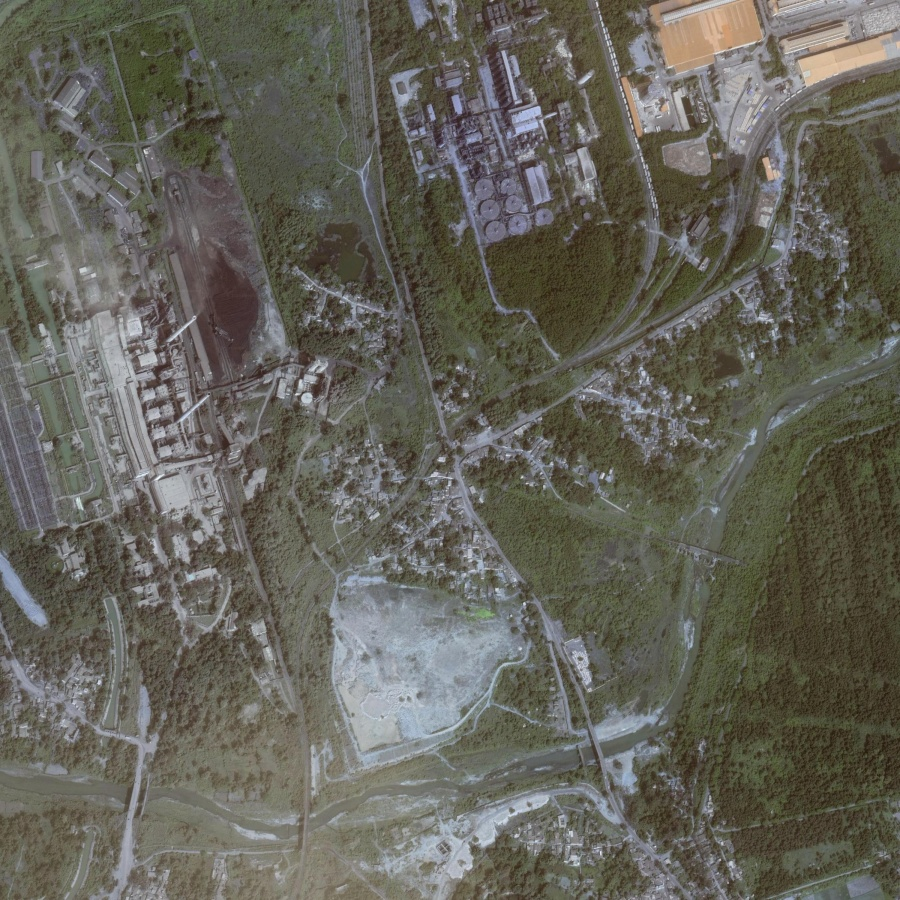PowerPlant: (72, 160, 269, 458)
